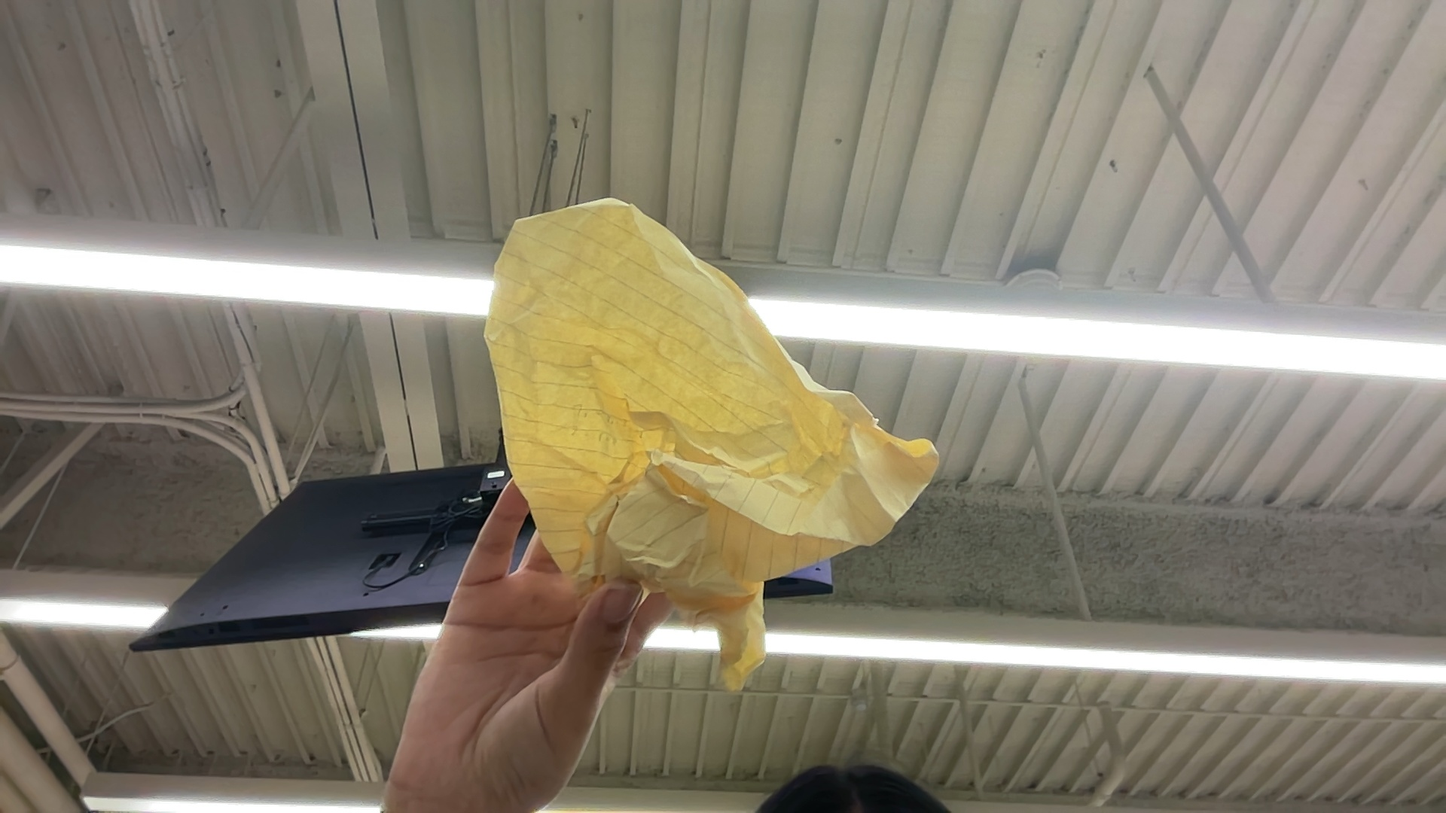Paper: (413, 209, 937, 560)
